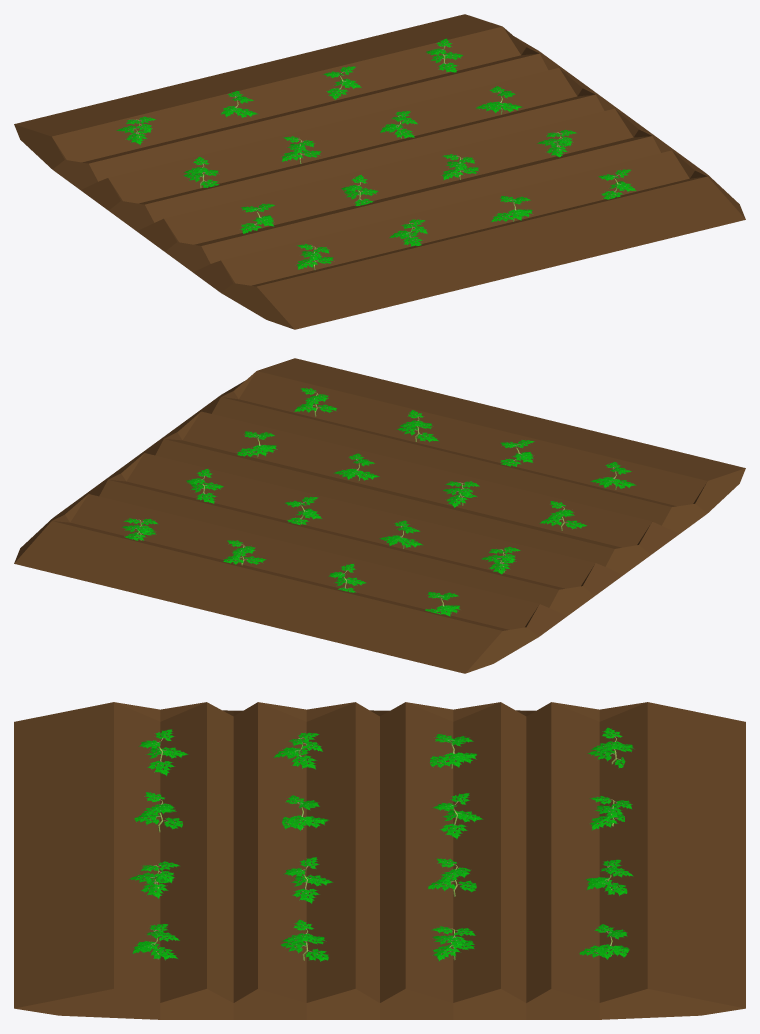
File: tomato-stage1-w-Dirt.glb
3 views of the same model, one above another, from view 1: azimuth 30°, elevation 25°; view 2: azimuth 150°, elevation 25°; view 3: azimuth 270°, elevation 25° (orthographic). The views are drawn at different scales.
Visible parts, largest first — view 1: Soil.011, Tomatoe_F1; view 2: Soil.011, Tomatoe_F1; view 3: Soil.011, Tomatoe_F1.
Part boxes in pixels (<box>): Soil.011: <box>14,14,745,329</box>; Tomatoe_F1: <box>116,38,636,270</box>; Soil.011: <box>14,358,745,673</box>; Tomatoe_F1: <box>122,388,636,616</box>; Soil.011: <box>14,702,745,1019</box>; Tomatoe_F1: <box>128,727,633,961</box>.
Size of the model in its own units: 2.5 by 0.1212 by 2.5.
Materials: 2 (1 with a texture image).
